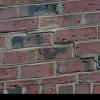stairstep_crack: (0, 28, 99, 69)
